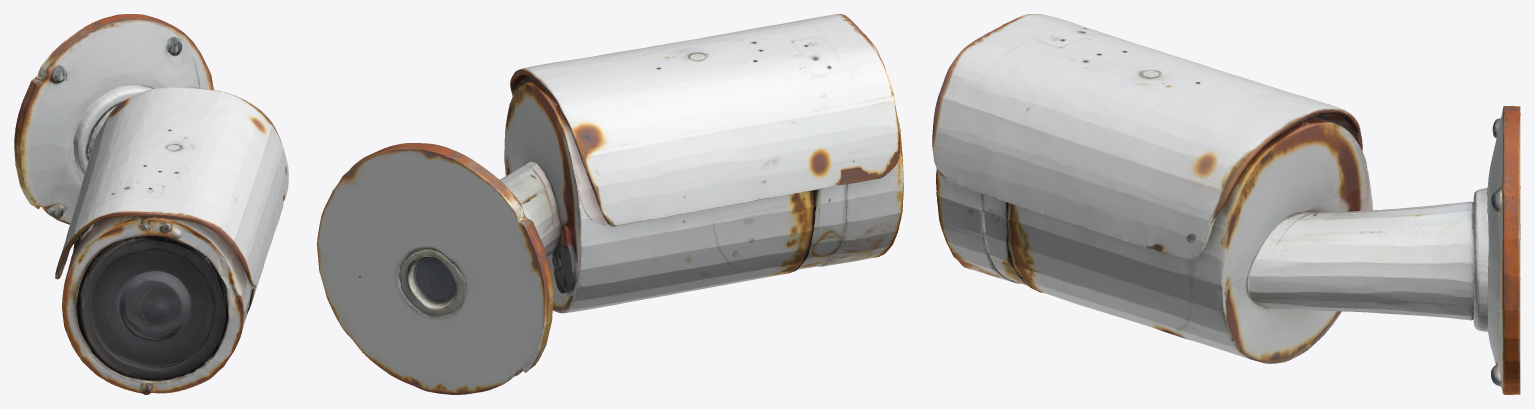
The model's file is white_rusty_industria_0423201515_texture.fbx.
The picture shows the model from 3 angles, left to right: view 1: azimuth 30°, elevation 25°; view 2: azimuth 150°, elevation 25°; view 3: azimuth 270°, elevation 25°; orthographic projection. The views are drawn at different scales.
Visible parts, largest first — view 1: temp; view 2: temp; view 3: temp.
Part boxes in pixels (x1,y1,x2,y2): temp: (14, 14, 288, 394); temp: (317, 14, 903, 394); temp: (932, 14, 1520, 394).
Size of the model in its own units: 163 by 98.87 by 200.
1 material, 1 textured.
